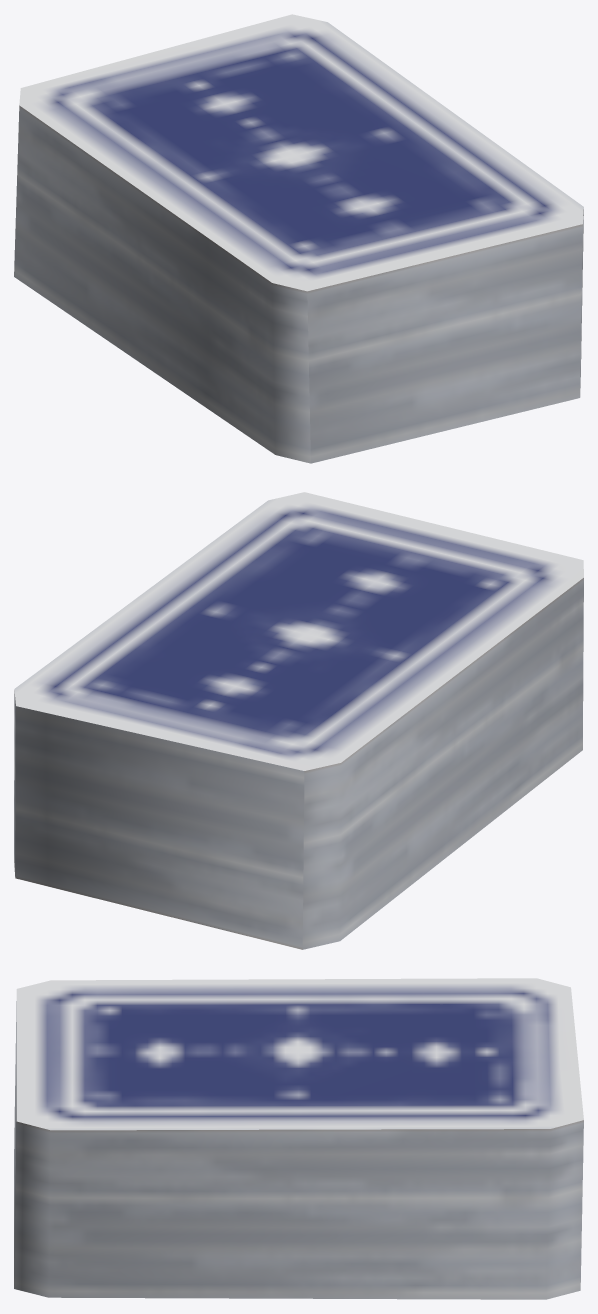
Rendered from SM_PROP_cards_city_01.fbx.
The picture shows the model from 3 angles, top to bottom: view 1: azimuth 30°, elevation 25°; view 2: azimuth 150°, elevation 25°; view 3: azimuth 270°, elevation 25°; orthographic projection. The views are drawn at different scales.
Visible parts, largest first — view 1: SM_PROP_cards_city_01; view 2: SM_PROP_cards_city_01; view 3: SM_PROP_cards_city_01.
Part boxes in pixels (x1=…): SM_PROP_cards_city_01: x1=14, y1=14, x2=583, y2=463; SM_PROP_cards_city_01: x1=14, y1=492, x2=583, y2=949; SM_PROP_cards_city_01: x1=14, y1=978, x2=583, y2=1299.
Bounding box in the file's own units: 10.22 × 5.32 × 15.95.
